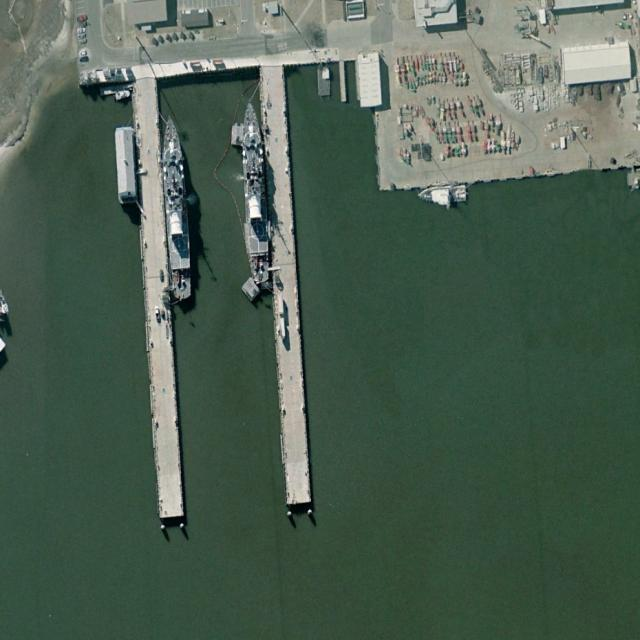Other Warship: (237, 96, 273, 289), (158, 112, 193, 300)
